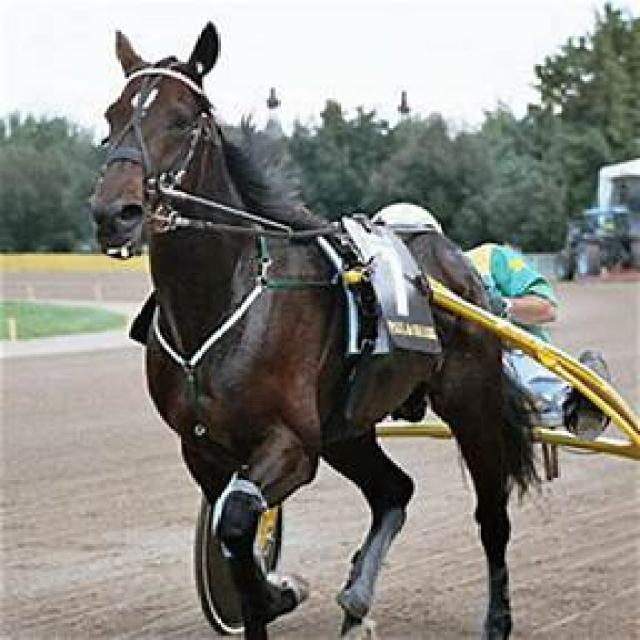horse: (92, 24, 534, 640)
